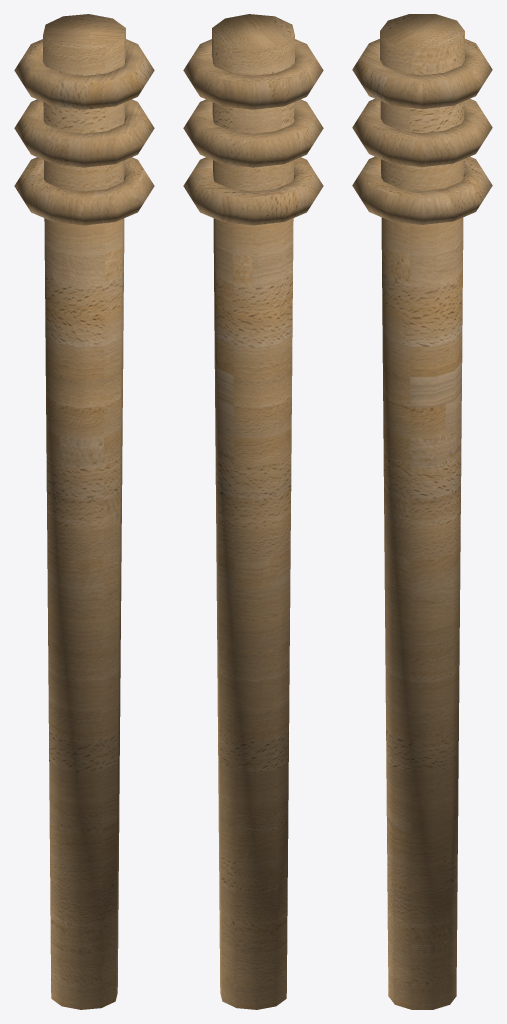
File: torch_handheld.glb
The picture shows the model from 3 angles, left to right: view 1: azimuth 30°, elevation 25°; view 2: azimuth 150°, elevation 25°; view 3: azimuth 270°, elevation 25°; orthographic projection.
Parts seen in each view (by area): view 1: torch_handheld; view 2: torch_handheld; view 3: torch_handheld.
Boxes of the visible parts, <box> form: torch_handheld: <box>14,14,154,1009</box>; torch_handheld: <box>183,14,323,1009</box>; torch_handheld: <box>352,14,492,1009</box>.
Size of the model in its own units: 0.066 by 0.5 by 0.066.
1 material, 1 textured.
